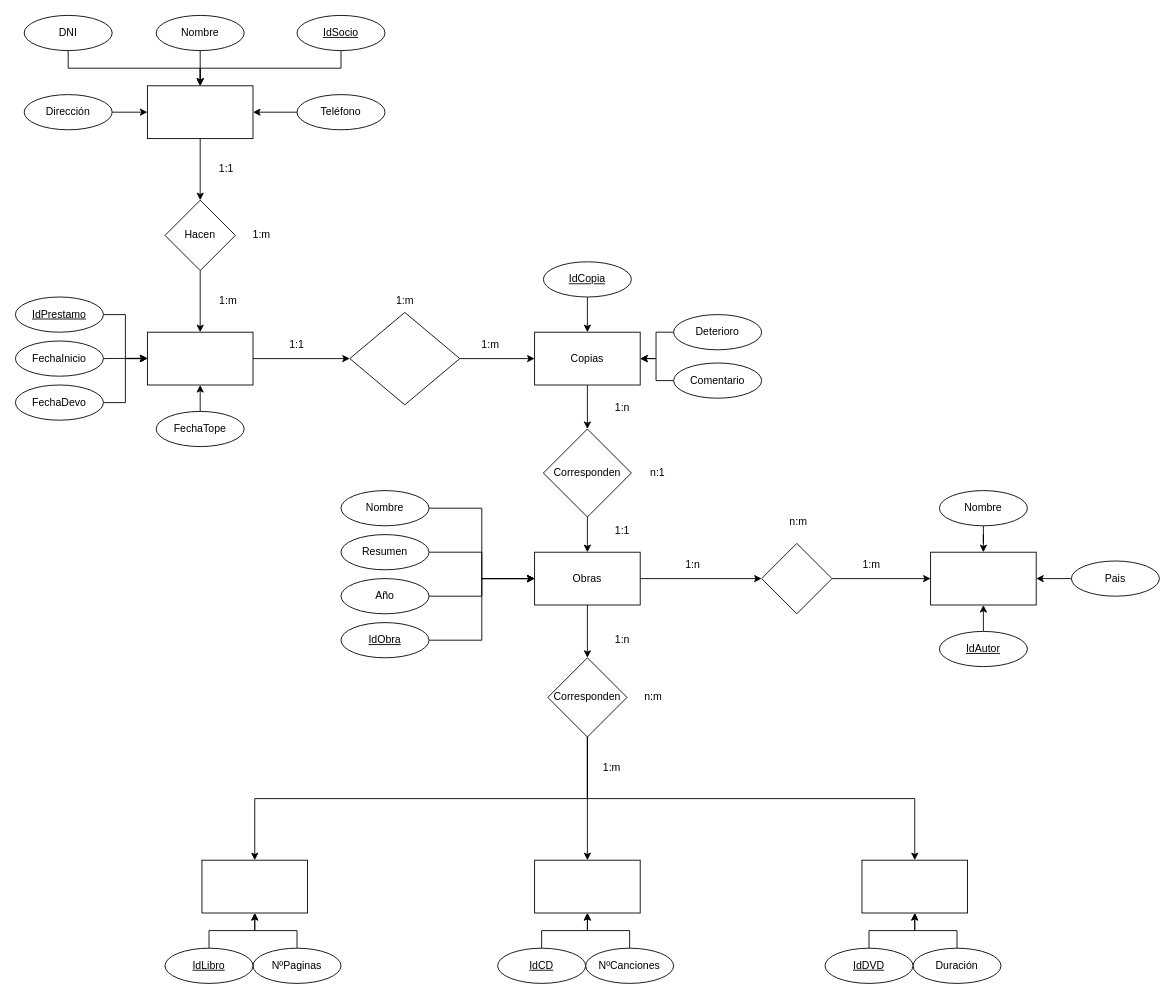
Image size: 1175x999. Some labels were removed from this diagram. The shapes that lost their labels are listed below. From the top down, each one's centre as x and y in pixels, then its label:
(x=200, y=112): Socios
(x=200, y=358): Prestamos
(x=404, y=358): EstánCompuestos
(x=796, y=578): Creadas
(x=983, y=578): Autores
(x=254, y=886): Libros
(x=587, y=886): CD´S
(x=914, y=886): DVD´S
